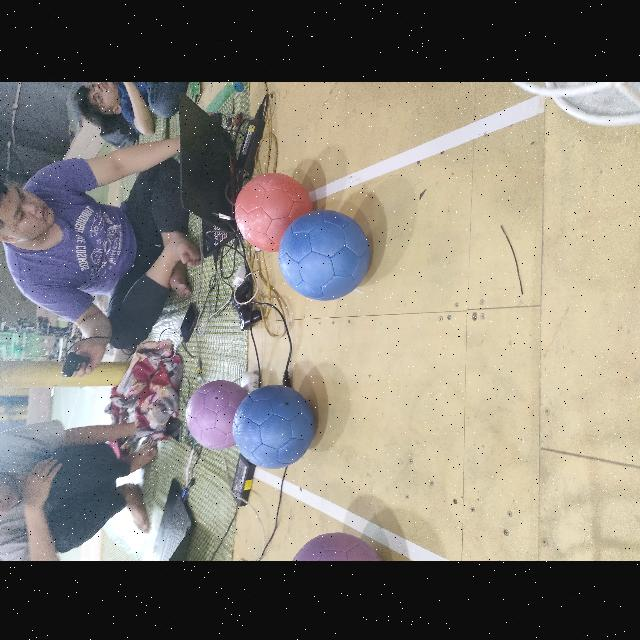B: (278, 208, 369, 298), (233, 384, 314, 466)
P: (187, 379, 247, 447), (290, 532, 384, 560)
R: (234, 172, 312, 250)
S: (510, 80, 640, 124)
